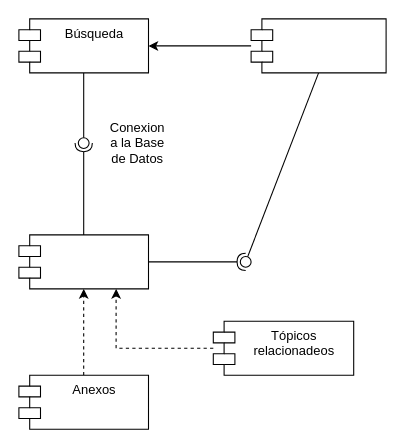
Image size: 405x448. Some labels were removed from this diagram. Here are the shapes that lost their labels. From the top down, the box of each, then its label:
(250, 18, 386, 73): Aplicación
(18, 234, 148, 289): Tópicos
